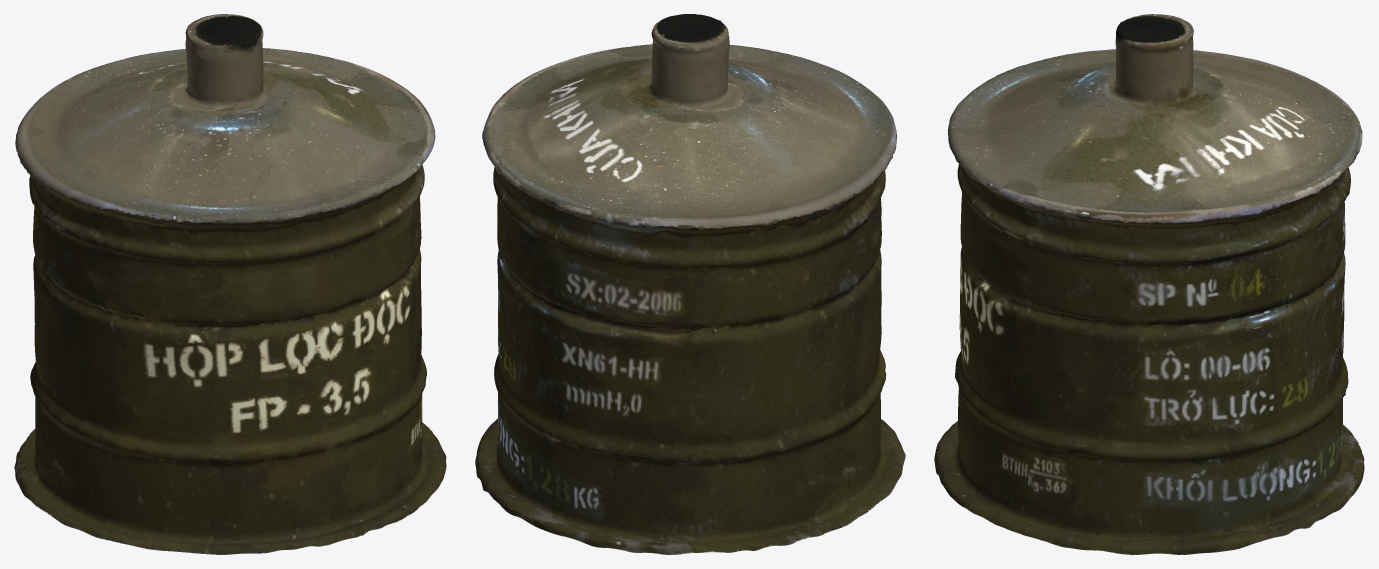
File: 27- Hop loc FD 3,5.glb
3 views of the same model, side by side, from view 1: azimuth 30°, elevation 25°; view 2: azimuth 150°, elevation 25°; view 3: azimuth 270°, elevation 25° (orthographic).
Visible parts, largest first — view 1: Polygonal_Model_1_27; view 2: Polygonal_Model_1_27; view 3: Polygonal_Model_1_27.
Boxes of the visible parts, <box> form: Polygonal_Model_1_27: <box>14,14,446,554</box>; Polygonal_Model_1_27: <box>475,14,905,554</box>; Polygonal_Model_1_27: <box>934,14,1364,554</box>.
Bounding box in the file's own units: 0.1412 × 0.1601 × 0.1419.
Materials: 1 (1 with a texture image).
